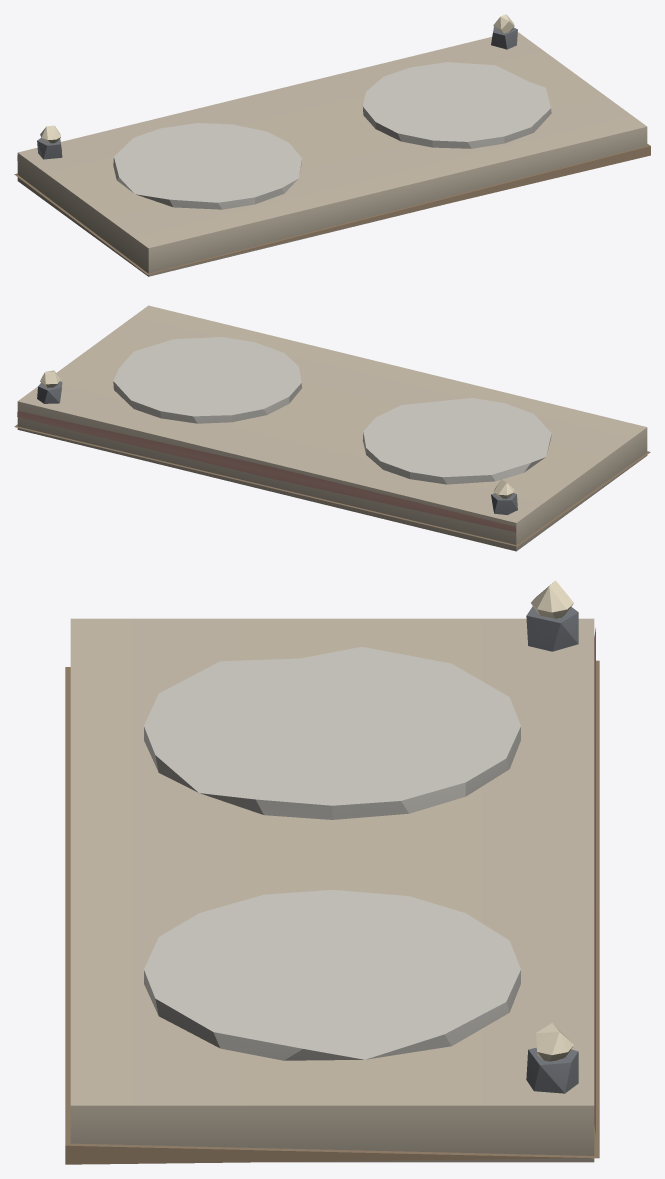
The model's file is wear_mannequin_stage_low.glb.
3 renders of one model, top to bottom at view 1: azimuth 30°, elevation 25°; view 2: azimuth 150°, elevation 25°; view 3: azimuth 270°, elevation 25°, orthographic. The views are drawn at different scales.
Parts seen in each view (by area): view 1: wear.mannequin_stage; view 2: wear.mannequin_stage; view 3: wear.mannequin_stage.
Part boxes in pixels (x1=…): wear.mannequin_stage: x1=14, y1=14, x2=650, y2=276; wear.mannequin_stage: x1=14, y1=305, x2=650, y2=551; wear.mannequin_stage: x1=65, y1=580, x2=599, y2=1164.
Bounding box in the file's own units: 2.22 × 0.242 × 1.02.
